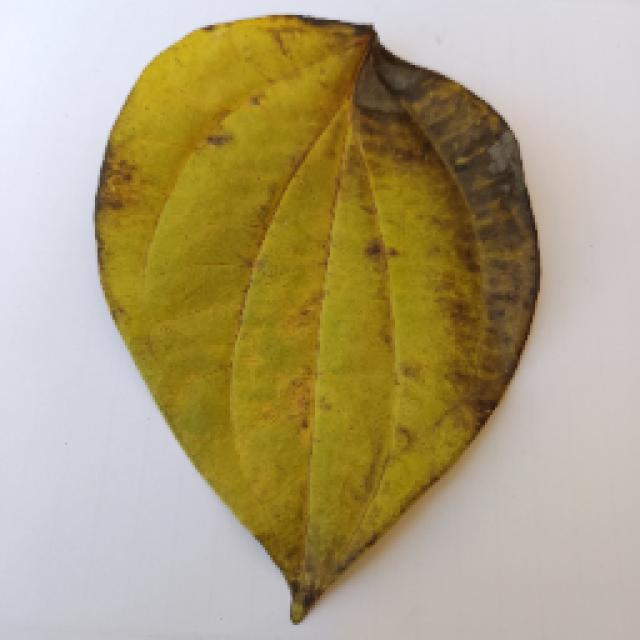slow-decline: (65, 32, 573, 628)
